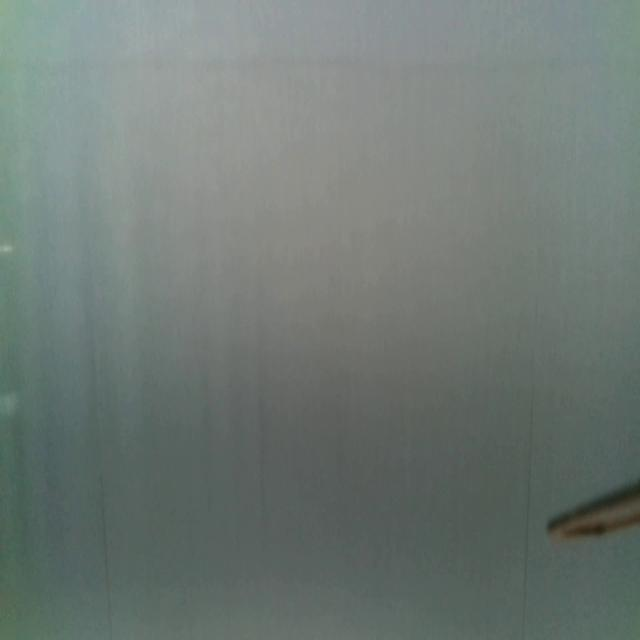color bleeding: (19, 47, 640, 83)
crease: (92, 344, 112, 640), (520, 344, 536, 636)
